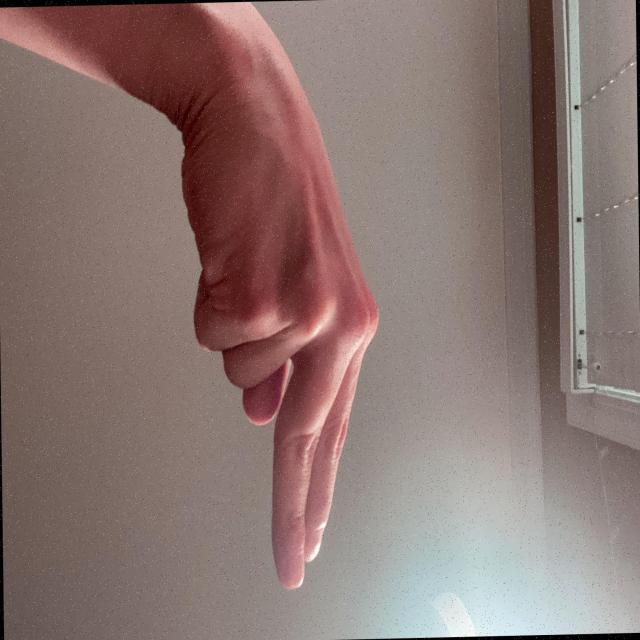H: (160, 334, 615, 617)
